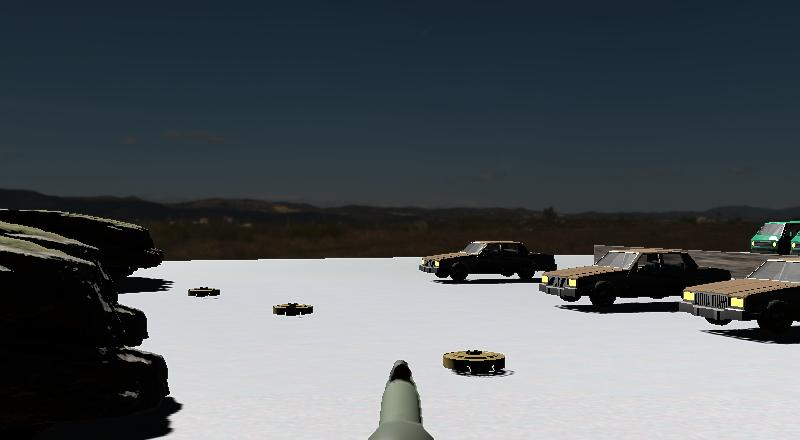car: (534, 242, 720, 323), (675, 250, 800, 355), (417, 234, 563, 287), (748, 218, 800, 259)
